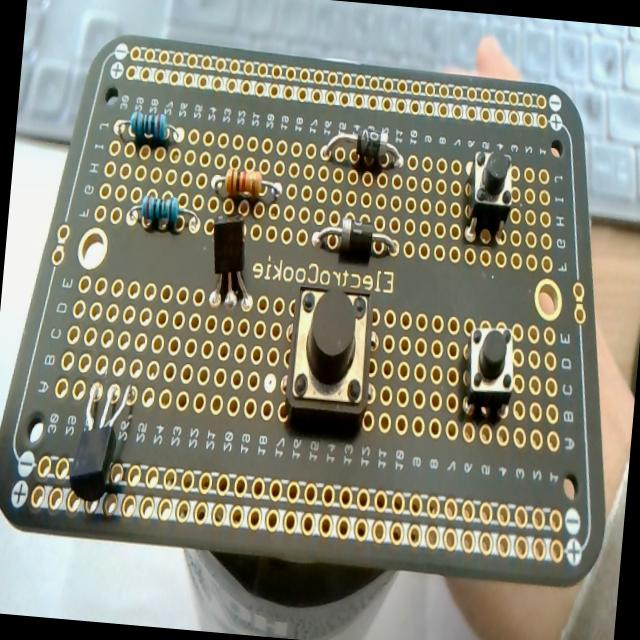diode: (308, 213, 399, 262), (319, 122, 406, 172), (211, 165, 283, 207)
resistor: (139, 192, 178, 232), (127, 110, 169, 146)
switch: (282, 280, 378, 424), (462, 147, 518, 245), (461, 321, 518, 416)
transistor: (62, 372, 134, 508), (204, 208, 259, 312)
